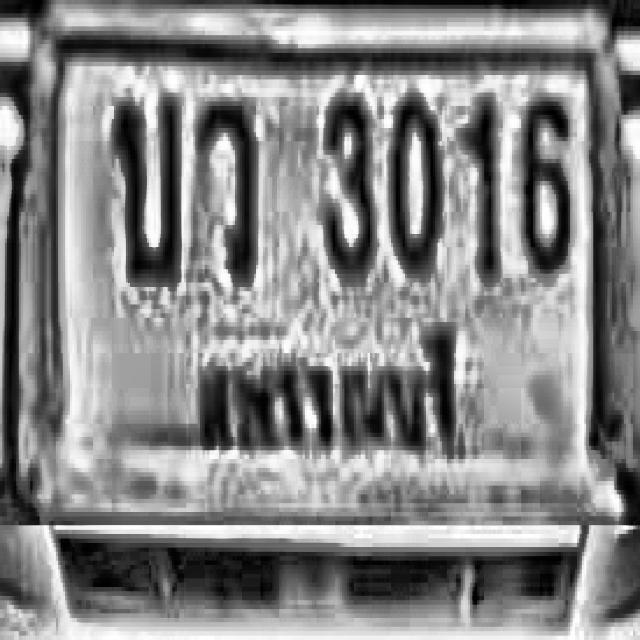license-plate: (21, 19, 636, 522)
